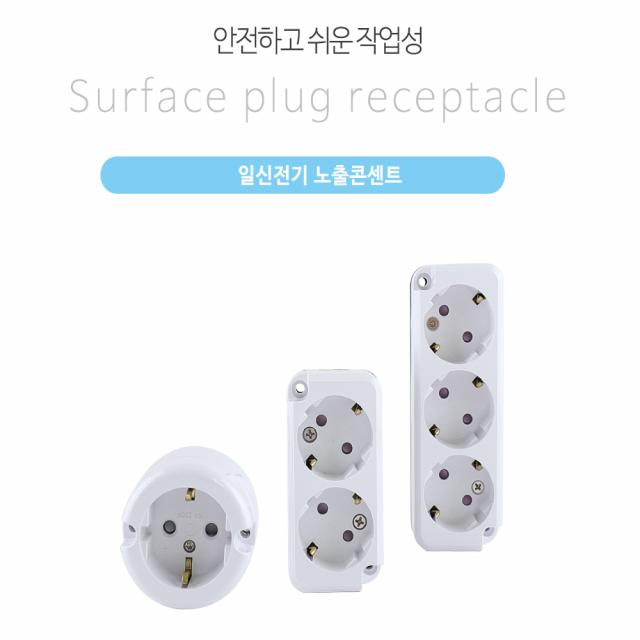typeb: (404, 255, 516, 584), (90, 420, 270, 613), (275, 352, 397, 614)
